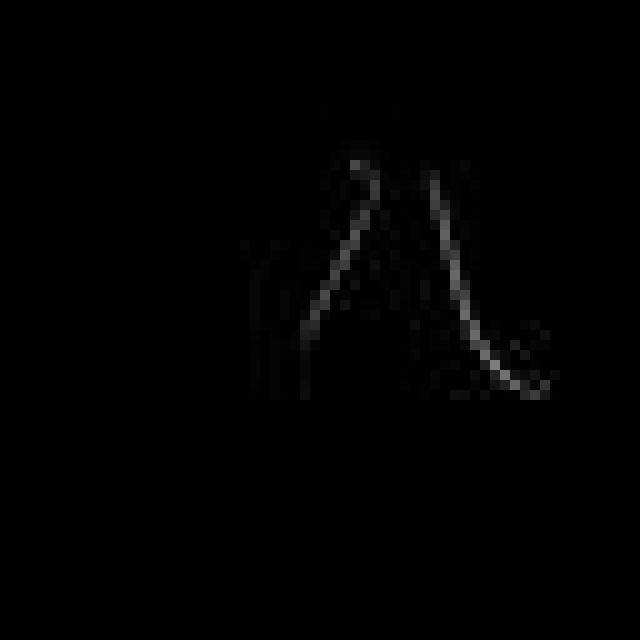8 -eight-: (296, 161, 531, 404)
